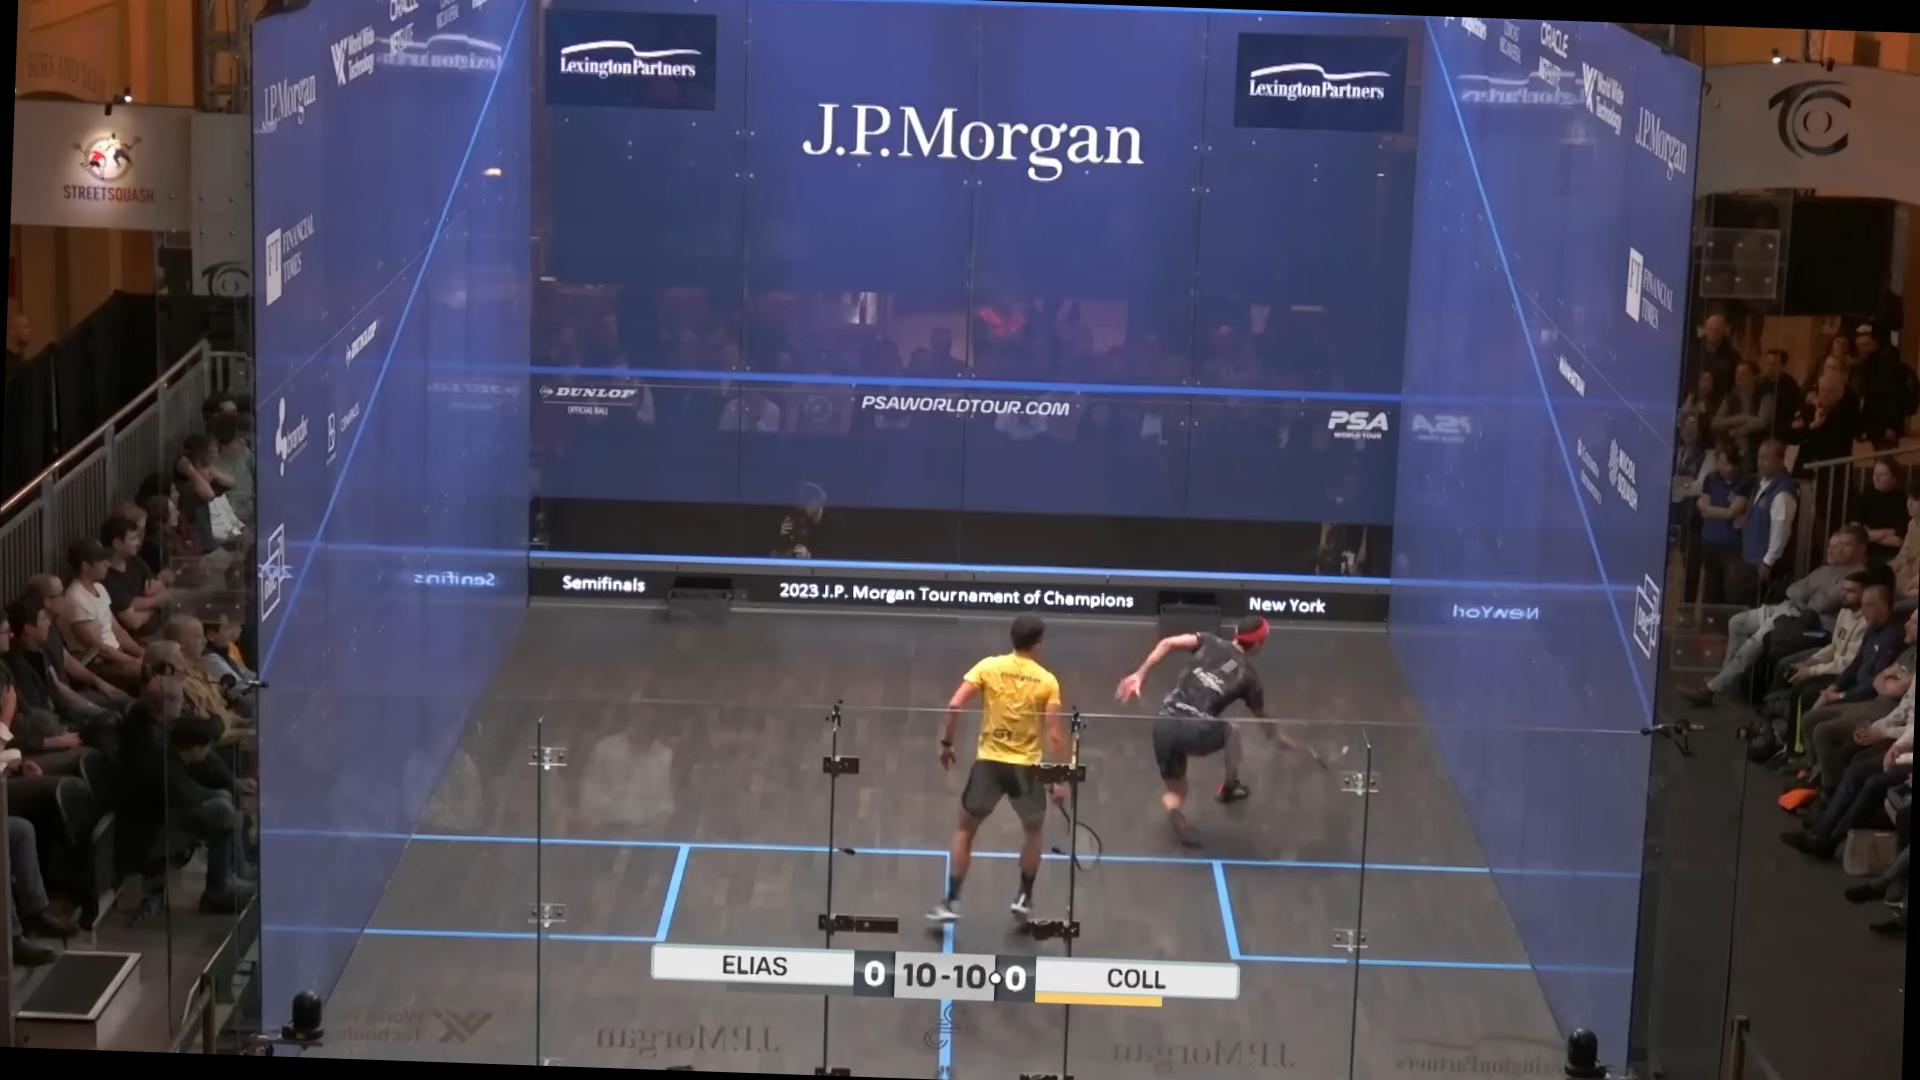Racket: (1048, 783, 1112, 873)
